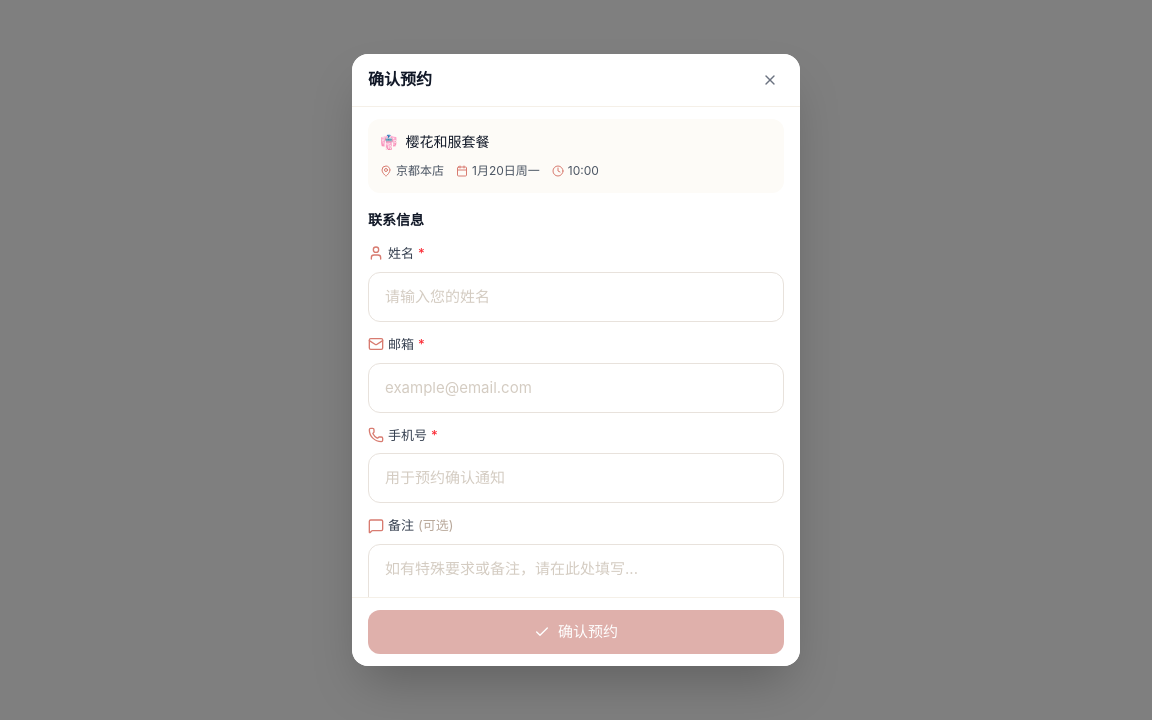
Scenario: InstantBookingModal › 表单提交 › 提交失败时显示错误信息
Step 1. Type "张三" into the field with placeholder "请输入您的姓名" → (576, 297), box [368,272,784,322]
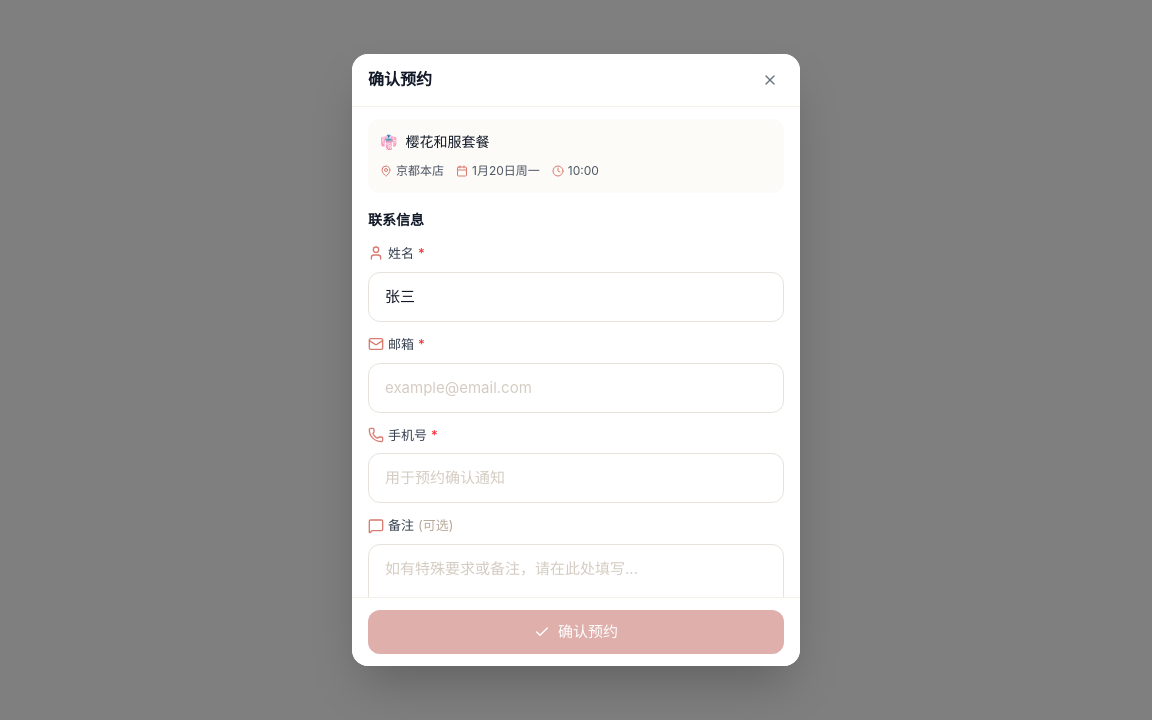
Step 2. Type "test@example.com" into the field with placeholder "example@email.com" → (576, 388), box [368,363,784,413]
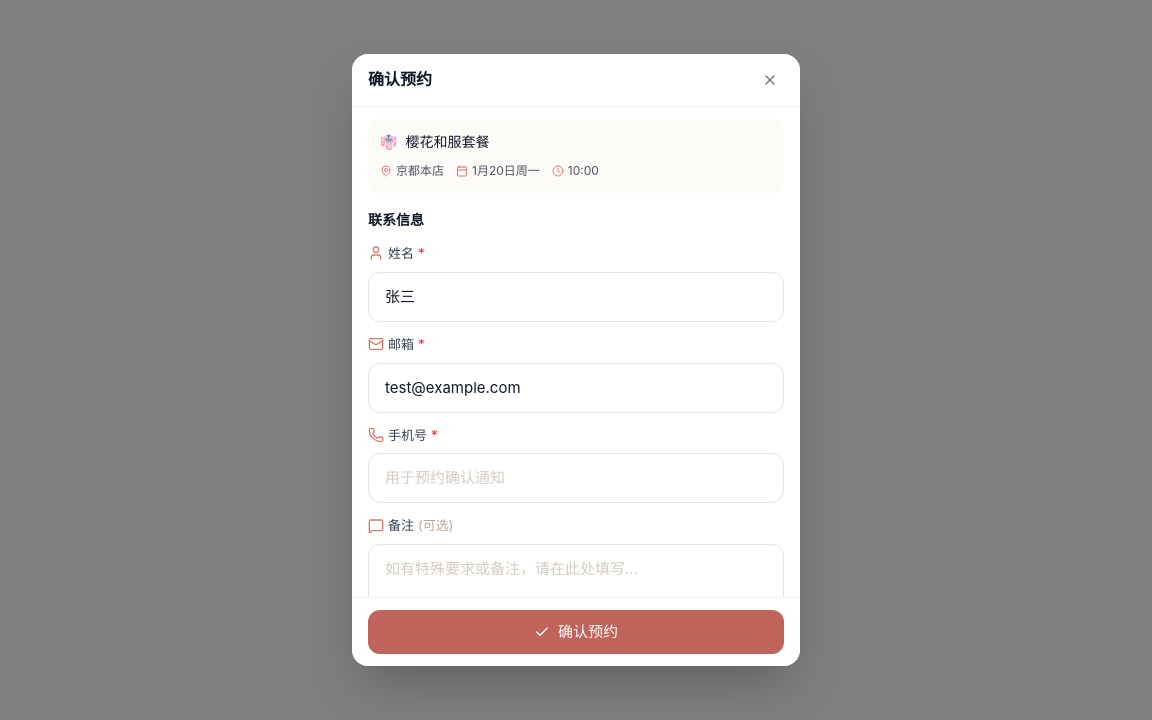
Step 3. Click the button "确认预约" → (576, 632), box [368,610,784,654]
(page scrolled)
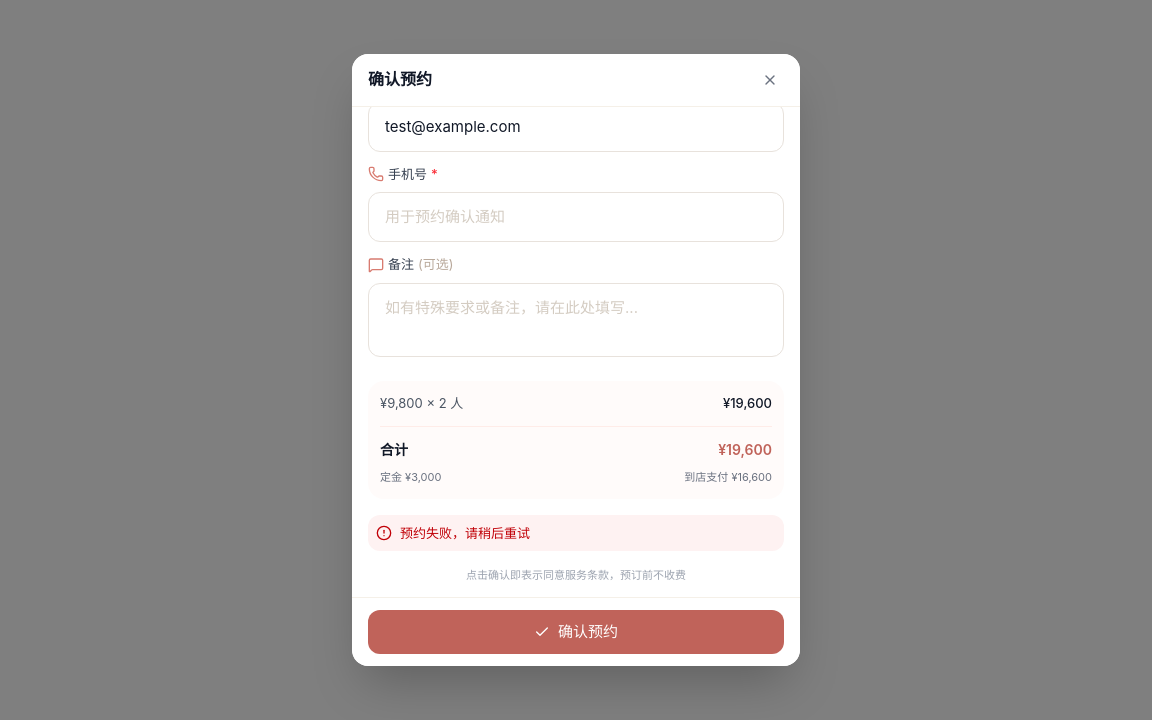
Check: the text "预约失败，请稍后重试" is shown, box [400,522,530,543]
